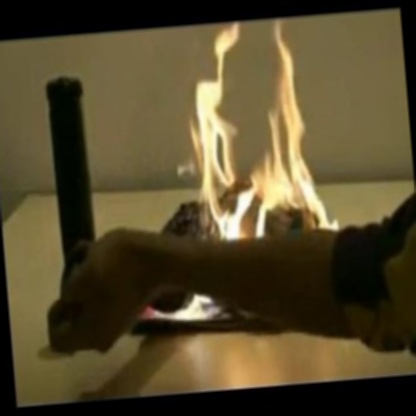fire: (167, 20, 319, 261)
